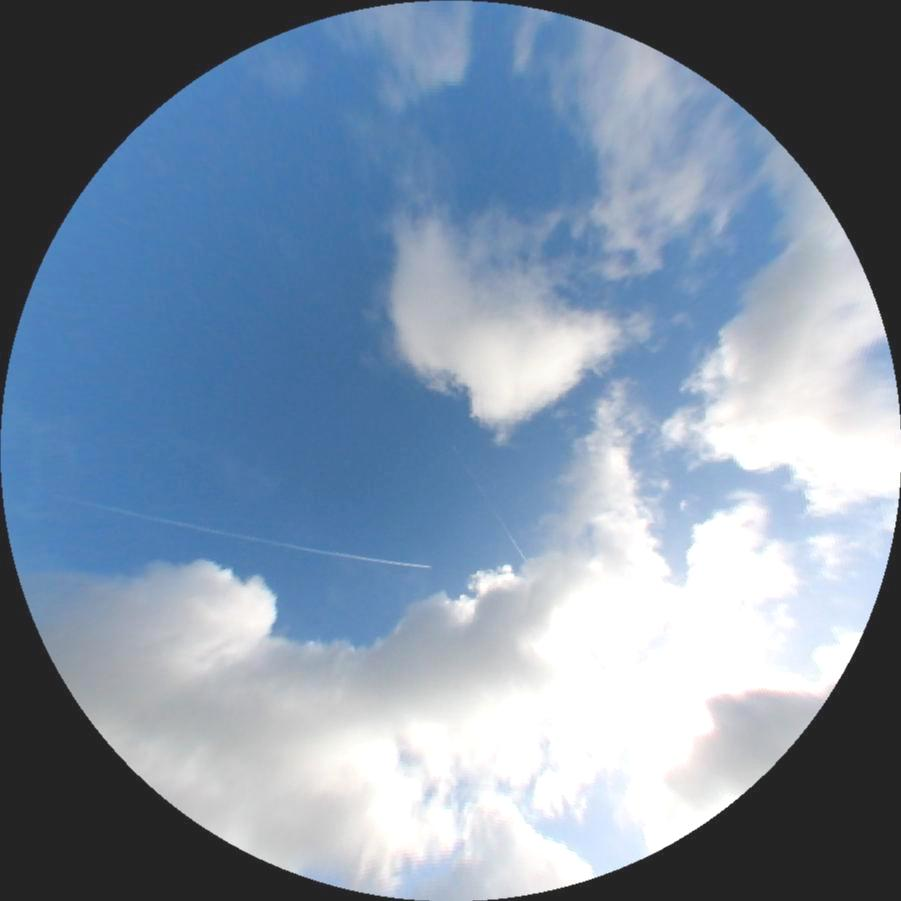contrail young: (51, 494, 433, 574), (415, 384, 526, 561)
